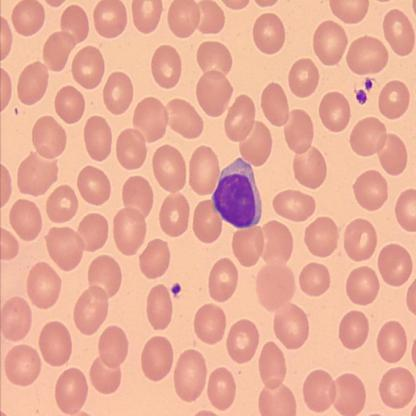Lymphocyte: (210, 157, 263, 230)
